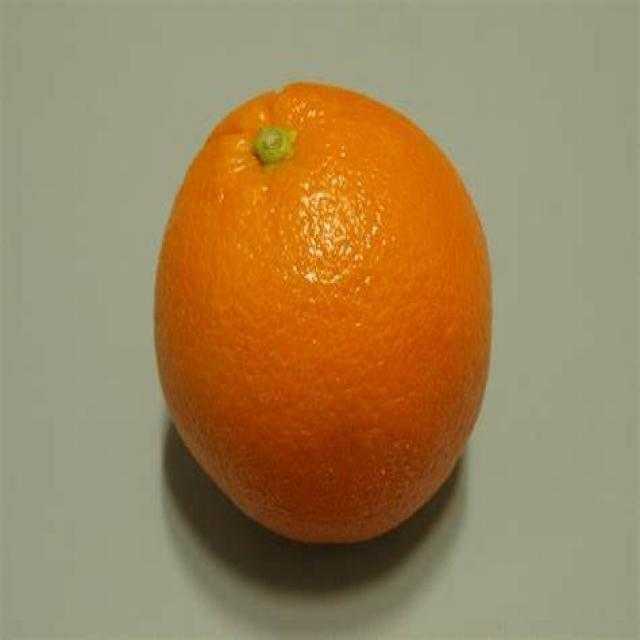Orange: (155, 77, 492, 544)
